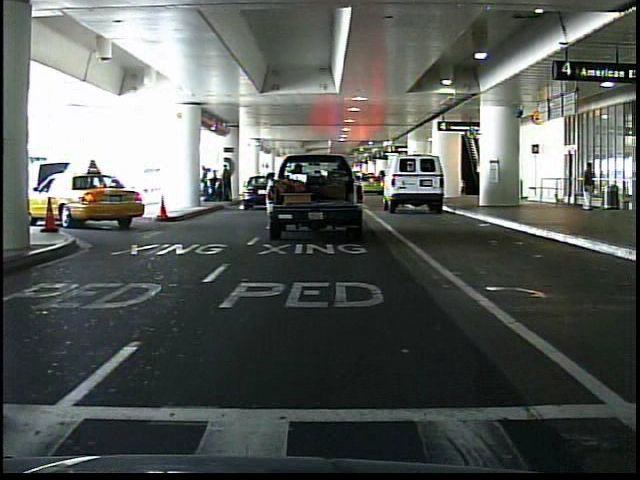person: (577, 161, 598, 214)
